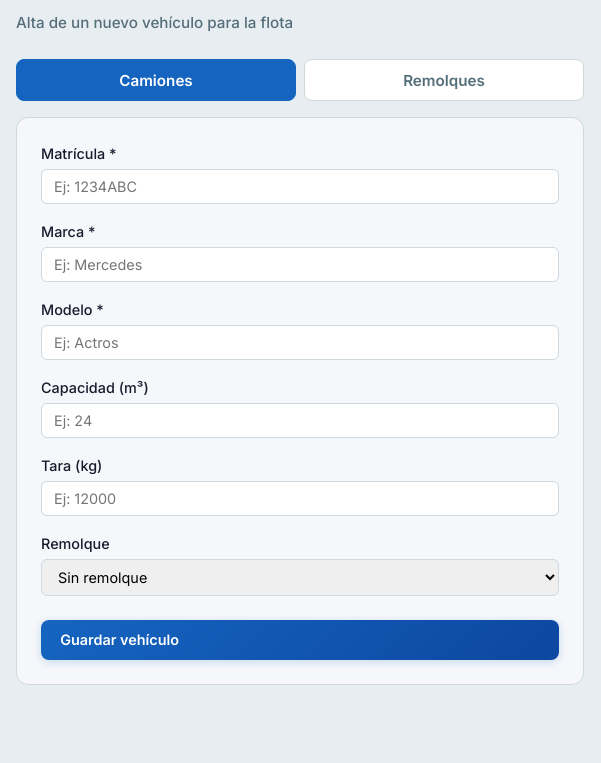
CamionFormPage › clears field error when user starts typing
Click the button "Guardar vehículo" at [120, 639], box [41,620,559,660]
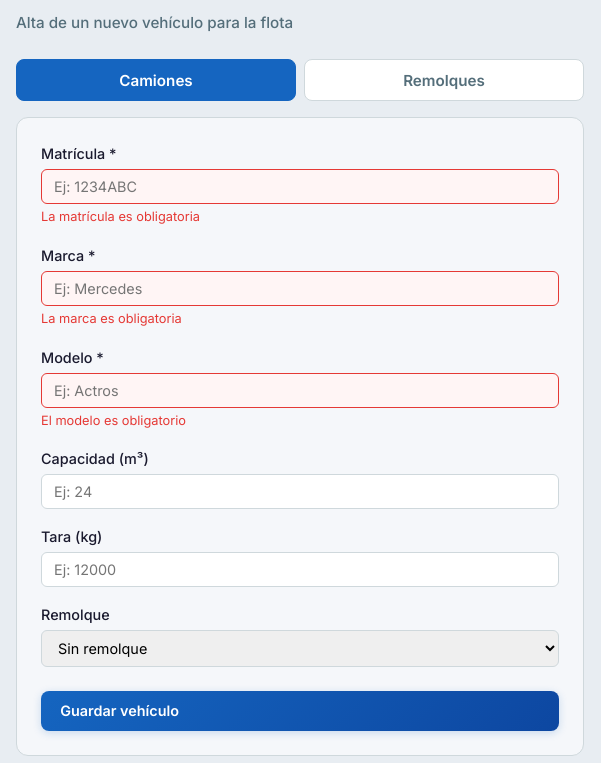
expect the text "La matrícula es obligatoria" is shown: met, box [41,209,200,224]
Type "A" into the field with placeholder "Ej: 1234ABC" at [300, 187], box [41,169,559,204]
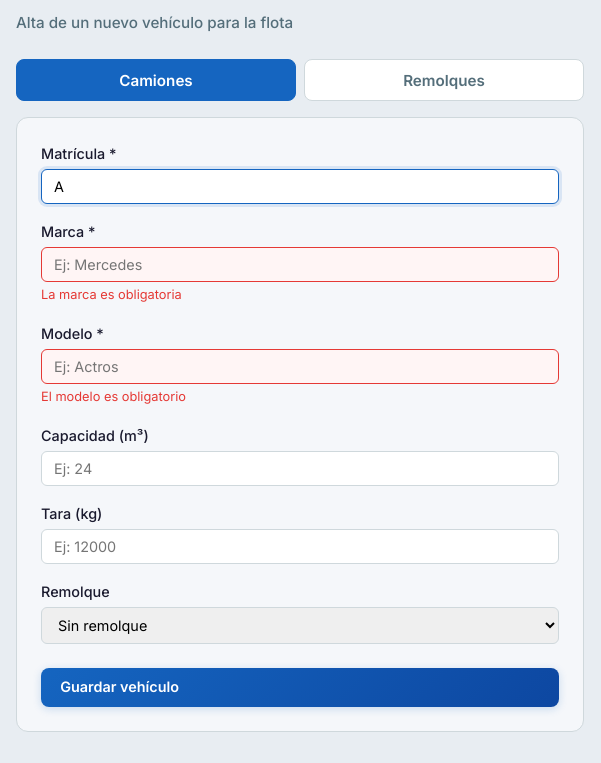
expect the text "La matrícula es obligatoria" is gone: met
